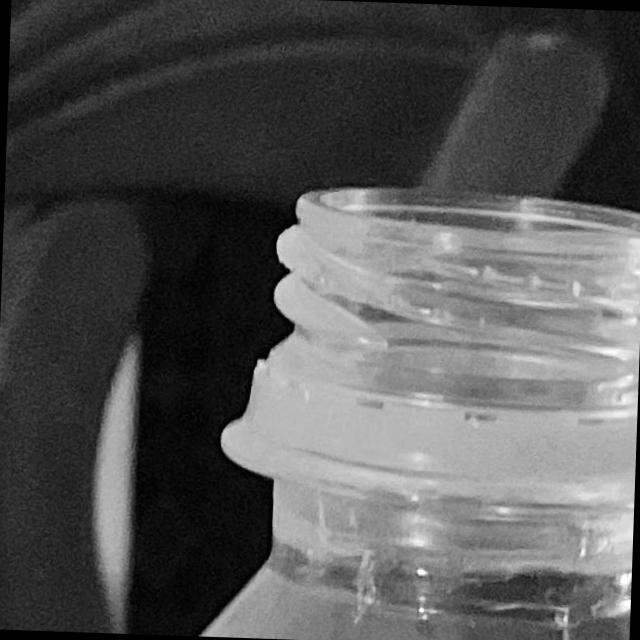open-cap: (235, 149, 640, 488)
